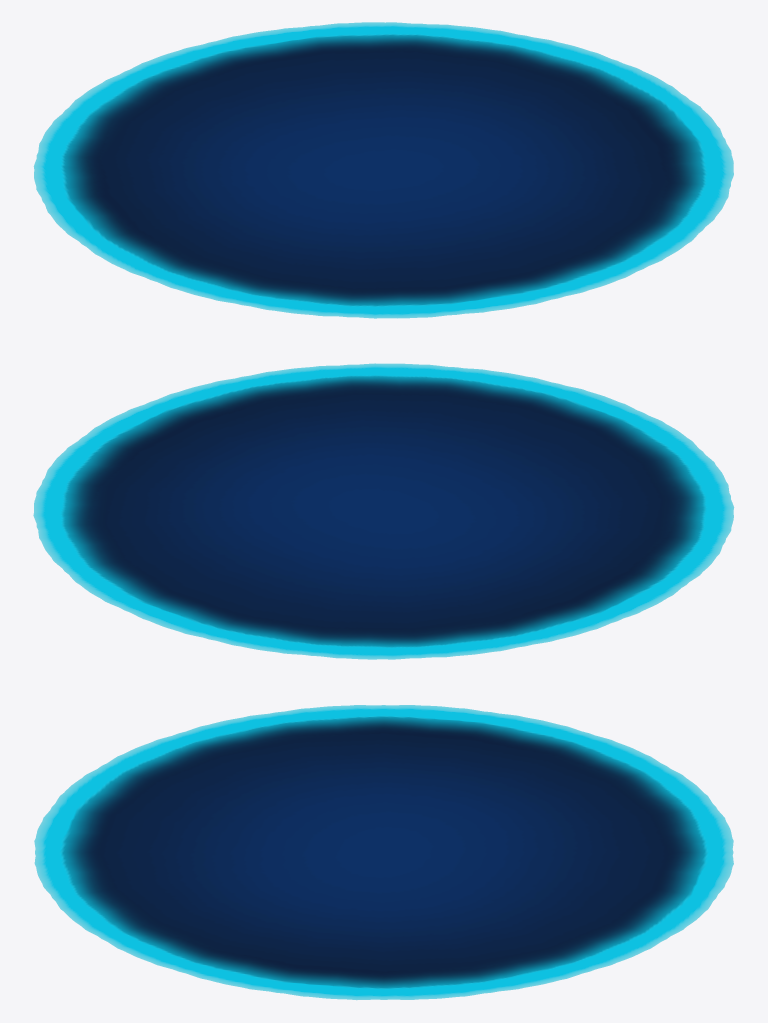
The model's file is button.fbx.
3 views of the same model, one above another, from view 1: azimuth 30°, elevation 25°; view 2: azimuth 150°, elevation 25°; view 3: azimuth 270°, elevation 25° (orthographic).
Parts seen in each view (by area): view 1: button1; view 2: button1; view 3: button1.
Part boxes in pixels (x1,y1,x2,y2): button1: [33, 22, 733, 318]; button1: [33, 363, 734, 659]; button1: [34, 705, 733, 1000].
Bounding box in the file's own units: 1.97 × 2.38e-07 × 1.97.
1 material, 1 textured.
